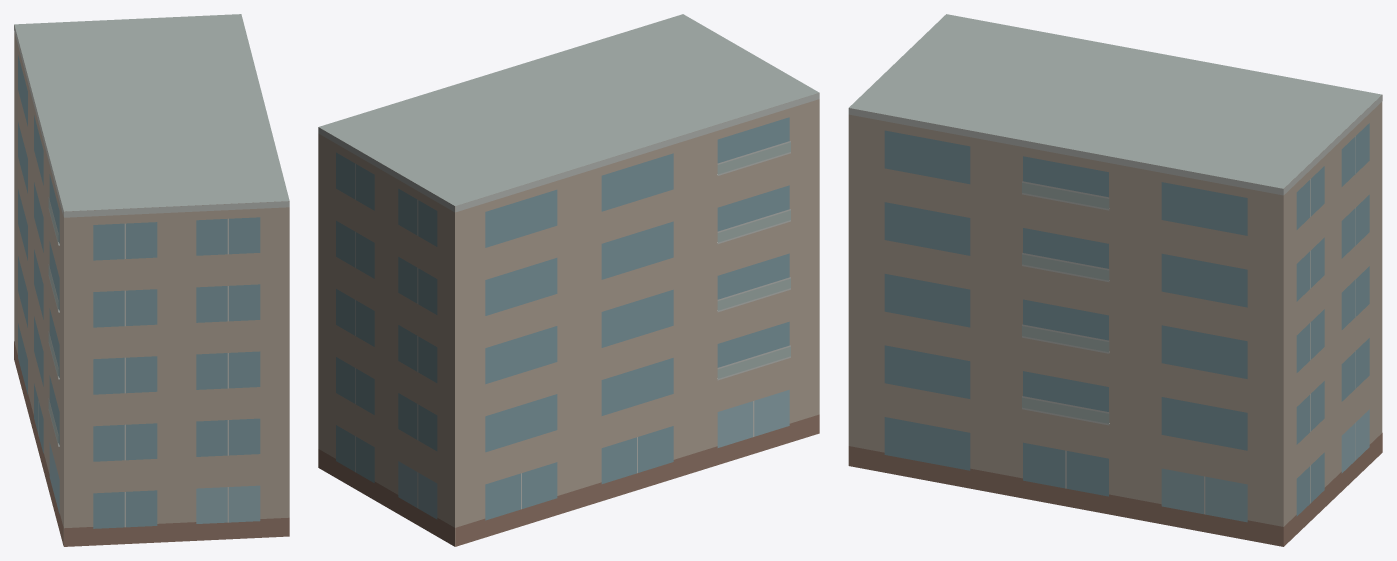
The model's file is survey-upis-32531314.glb.
The picture shows the model from 3 angles, left to right: view 1: azimuth 30°, elevation 25°; view 2: azimuth 150°, elevation 25°; view 3: azimuth 270°, elevation 25°; orthographic projection. The views are drawn at different scales.
Parts seen in each view (by area): view 1: survey-upis-32531314.tmp; view 2: survey-upis-32531314.tmp; view 3: survey-upis-32531314.tmp.
Boxes of the visible parts, <box> form: survey-upis-32531314.tmp: <box>14,14,289,546</box>; survey-upis-32531314.tmp: <box>318,14,819,546</box>; survey-upis-32531314.tmp: <box>848,14,1382,546</box>.
Size of the model in its own units: 13.73 by 13.1 by 17.71.
